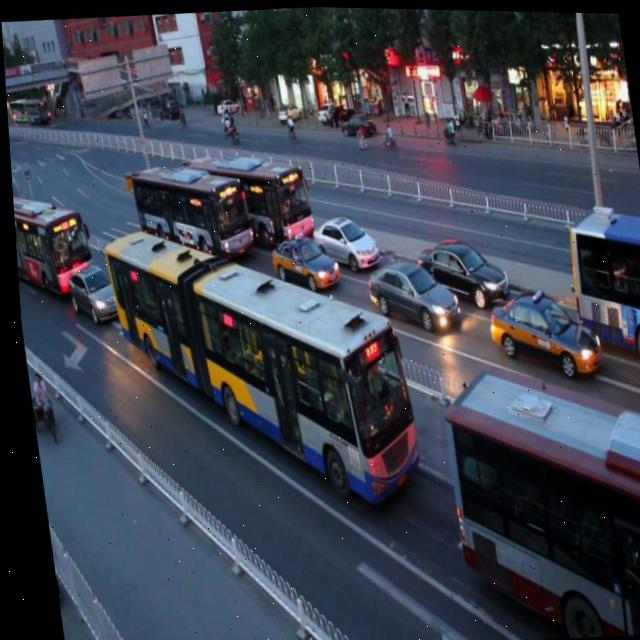car: (479, 280, 599, 387), (357, 248, 453, 337), (412, 229, 506, 310), (261, 224, 335, 295), (303, 204, 375, 275), (60, 257, 122, 326), (630, 331, 640, 412)
van: (94, 204, 420, 520), (432, 352, 640, 640), (123, 150, 252, 273), (182, 140, 313, 254), (559, 200, 640, 358), (10, 183, 89, 289)
